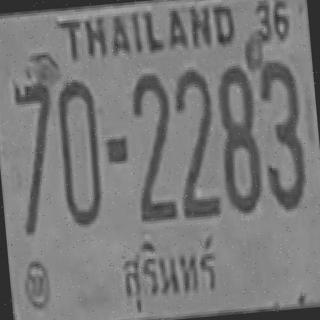N00: (54, 77, 105, 227)
N02: (127, 72, 177, 207), (170, 67, 218, 202), (172, 87, 220, 217)
N03: (255, 58, 306, 208)
N07: (10, 80, 62, 234)
N08: (213, 62, 262, 212)
P68: (111, 228, 228, 320)
